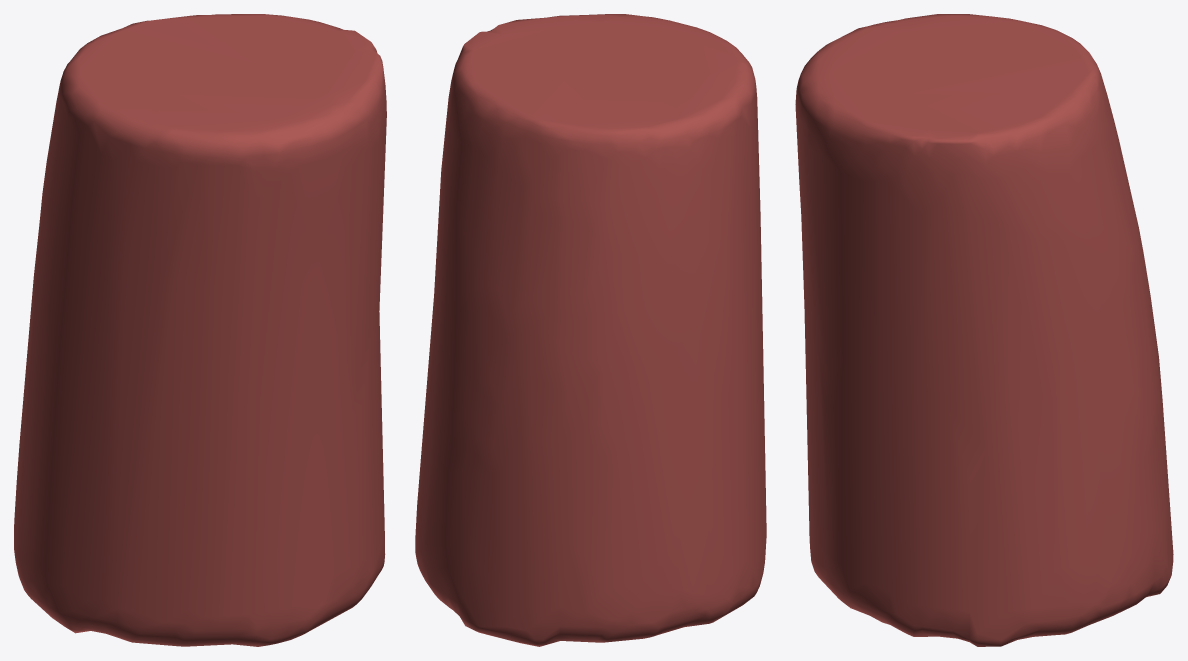
Rendered from FMA4720.glb.
3 renders of one model, left to right at view 1: azimuth 30°, elevation 25°; view 2: azimuth 150°, elevation 25°; view 3: azimuth 270°, elevation 25°, orthographic. The views are drawn at different scales.
Visible parts, largest first — view 1: FMA4720; view 2: FMA4720; view 3: FMA4720.
Boxes of the visible parts, x1,y1,x2,y2 form: FMA4720: (14, 14, 386, 646); FMA4720: (415, 14, 766, 646); FMA4720: (795, 14, 1173, 646).
Bounding box in the file's own units: 0.0227 × 0.0351 × 0.0238.
